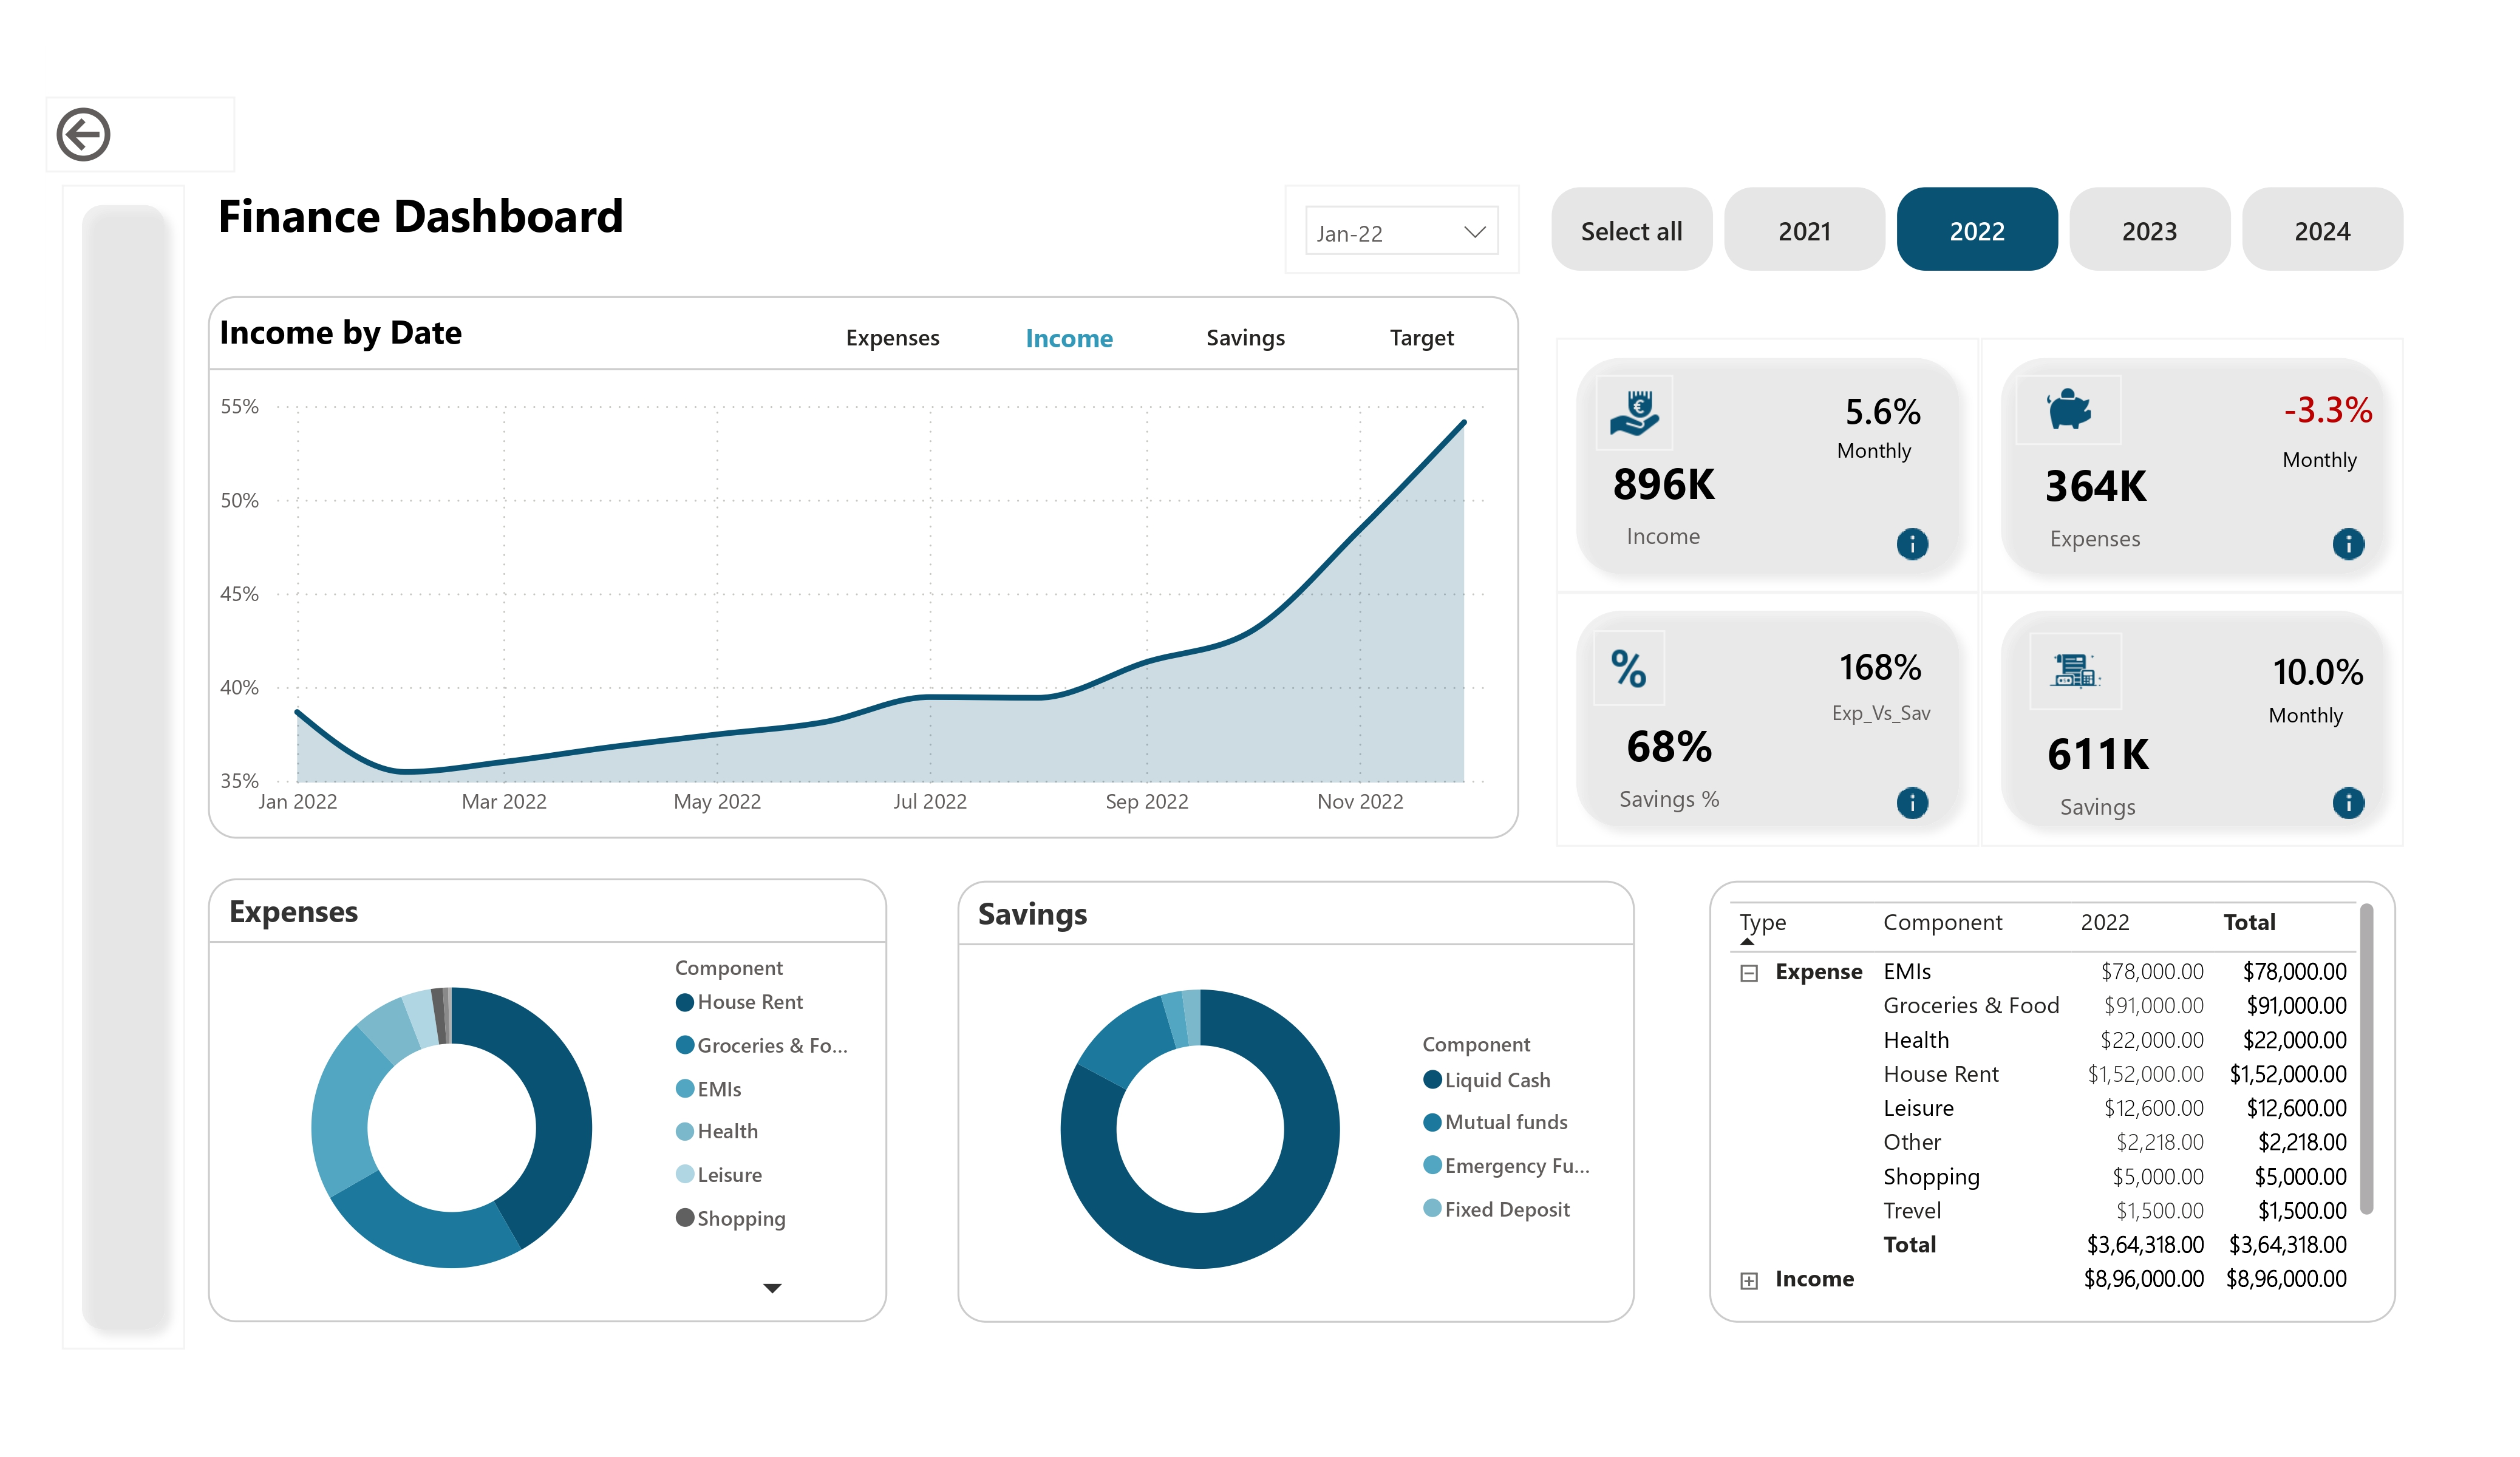

The page's visual inventory and layout, read from the dashboard file:
{"tool":"powerbi","page":{"name":"Page 1","canvas":[1280,720],"ordinal":0},"visuals":[{"type":"shape","box":[1020.2,286.9,222.7,135.4],"z":0},{"type":"shape","box":[795.5,286.9,222.7,135.4],"z":1000},{"type":"shape","box":[1020.2,153.5,222.7,135.4],"z":2000},{"type":"card","fields":{"Values":["Dataset.Savings"]},"box":[1029.2,339.1,104.3,87.3],"z":3000},{"type":"card","fields":{"Values":["Dataset.Expenses"]},"box":[1047.3,206.6,67.2,68.2],"z":4000},{"type":"card","fields":{"Values":["Dataset.Savings%"]},"box":[805.5,337.1,100.3,81.3],"z":5000},{"type":"advancedSlicerVisual","title":"Year","fields":{"Values":["Dataset.Year"]},"box":[788.9,69.2,462.4,54.5],"z":6000},{"type":"donutChart","title":"Savings","fields":{"Y":["Dataset.Savings"],"Category":["Dataset.Component"]},"box":[480.5,440.4,357.1,232.7],"z":7000},{"type":"donutChart","title":"Expenses","fields":{"Y":["Dataset.Expenses"],"Category":["Dataset.Component"]},"box":[85.3,439.4,358.1,233.7],"z":8000},{"type":"pivotTable","fields":{"Values":["Dataset.Total_Value"],"Rows":["Dataset.Type","Dataset.Component"],"Columns":["Dataset.Year"]},"box":[876.7,440.4,362.1,232.7],"z":9000},{"type":"shape","box":[795.5,153.5,222.7,135.4],"z":10000},{"type":"areaChart","fields":{"Category":["Dataset.Date"],"Y":["Dataset.Line_Chart_Measures"]},"box":[85.3,132.4,691.2,285.9],"z":11000},{"type":"advancedSlicerVisual","fields":{"Values":["Line_Selection_Table.Type"]},"box":[398.5,132.5,377.7,42.8],"z":12000},{"type":"actionButton","box":[0,27.1,100.3,40.1],"z":13000},{"type":"textbox","box":[85.1,67.3,239.5,52.6],"z":14000},{"type":"card","fields":{"Values":["Dataset.Income"]},"box":[802.5,198.6,101.3,83.3],"z":15000},{"type":"slicer","fields":{"Values":["Selected_Date.Month-Yr"]},"box":[652.6,73.1,123.6,46.7],"z":16000},{"type":"card","fields":{"Values":["Dataset.Expenses_Monthly_Gr"]},"box":[1162.1,176.6,83.3,34.1],"z":17000},{"type":"card","fields":{"Values":["Dataset.Savings_Monthly_Gr"]},"box":[1167.1,314.1,63.2,34.1],"z":18000},{"type":"card","fields":{"Values":["Dataset.Ex_Vs_Sav"]},"box":[917.3,302,101.3,67.2],"z":19000},{"type":"card","fields":{"Values":["Dataset.Income_Monthly_Gr"]},"box":[906.3,147.5,125.4,92.3],"z":20000,"group":"g1"},{"type":"textbox","box":[1174.1,203.7,60.2,31.1],"z":20000},{"type":"textbox","box":[1167.1,339.1,68.2,31.1],"z":21000},{"type":"group","id":"g1","title":"Group 2","box":[906.3,147.5,125.4,92.3],"z":22000},{"type":"textbox","box":[939.2,198.3,68.2,31.1],"z":22001,"group":"g1"},{"type":"image","box":[816.6,173.5,41.1,40.1],"z":23000},{"type":"image","box":[815.5,308,38.1,40.1],"z":24000},{"type":"image","box":[1045.3,310,49.2,41.1],"z":25000},{"type":"image","box":[1038.2,173.5,56.2,37.1],"z":26000},{"type":"shape","box":[9,73.2,65.2,613.9],"z":27000},{"type":"image","box":[968,383.2,31.1,33.1],"z":28000},{"type":"image","box":[968,243.8,31.1,38.1],"z":29000},{"type":"image","box":[1198.7,383.2,31.1,33.1],"z":30000},{"type":"image","box":[1198.7,243.8,31.1,38.1],"z":31000}]}

Visuals, with their boxes on the page's 1280x720 design canvas (x1, y1, x2, y2). These are canvas units, not pixel positions in the 2520x1457 screenshot, which may show the page scaled, cropped or inside an application window:
shape: {"x1": 1020, "y1": 287, "x2": 1243, "y2": 422}
shape: {"x1": 796, "y1": 287, "x2": 1018, "y2": 422}
shape: {"x1": 1020, "y1": 154, "x2": 1243, "y2": 289}
card - Dataset.Savings: {"x1": 1029, "y1": 339, "x2": 1134, "y2": 426}
card - Dataset.Expenses: {"x1": 1047, "y1": 207, "x2": 1114, "y2": 275}
card - Dataset.Savings%: {"x1": 806, "y1": 337, "x2": 906, "y2": 418}
"Year" advancedSlicerVisual: {"x1": 789, "y1": 69, "x2": 1251, "y2": 124}
"Savings" donutChart: {"x1": 480, "y1": 440, "x2": 838, "y2": 673}
"Expenses" donutChart: {"x1": 85, "y1": 439, "x2": 443, "y2": 673}
pivotTable - Dataset.Total_Value x Dataset.Type: {"x1": 877, "y1": 440, "x2": 1239, "y2": 673}
shape: {"x1": 796, "y1": 154, "x2": 1018, "y2": 289}
areaChart - Dataset.Date x Dataset.Line_Chart_Measures: {"x1": 85, "y1": 132, "x2": 776, "y2": 418}
advancedSlicerVisual - Line_Selection_Table.Type: {"x1": 398, "y1": 132, "x2": 776, "y2": 175}
actionButton: {"x1": 0, "y1": 27, "x2": 100, "y2": 67}
textbox: {"x1": 85, "y1": 67, "x2": 325, "y2": 120}
card - Dataset.Income: {"x1": 802, "y1": 199, "x2": 904, "y2": 282}
slicer - Selected_Date.Month-Yr: {"x1": 653, "y1": 73, "x2": 776, "y2": 120}
card - Dataset.Expenses_Monthly_Gr: {"x1": 1162, "y1": 177, "x2": 1245, "y2": 211}
card - Dataset.Savings_Monthly_Gr: {"x1": 1167, "y1": 314, "x2": 1230, "y2": 348}
card - Dataset.Ex_Vs_Sav: {"x1": 917, "y1": 302, "x2": 1019, "y2": 369}
card - Dataset.Income_Monthly_Gr: {"x1": 906, "y1": 148, "x2": 1032, "y2": 240}
textbox: {"x1": 1174, "y1": 204, "x2": 1234, "y2": 235}
textbox: {"x1": 1167, "y1": 339, "x2": 1235, "y2": 370}
"Group 2" group: {"x1": 906, "y1": 148, "x2": 1032, "y2": 240}
textbox: {"x1": 939, "y1": 198, "x2": 1007, "y2": 229}
image: {"x1": 817, "y1": 174, "x2": 858, "y2": 214}
image: {"x1": 816, "y1": 308, "x2": 854, "y2": 348}
image: {"x1": 1045, "y1": 310, "x2": 1094, "y2": 351}
image: {"x1": 1038, "y1": 174, "x2": 1094, "y2": 211}
shape: {"x1": 9, "y1": 73, "x2": 74, "y2": 687}
image: {"x1": 968, "y1": 383, "x2": 999, "y2": 416}
image: {"x1": 968, "y1": 244, "x2": 999, "y2": 282}
image: {"x1": 1199, "y1": 383, "x2": 1230, "y2": 416}
image: {"x1": 1199, "y1": 244, "x2": 1230, "y2": 282}
